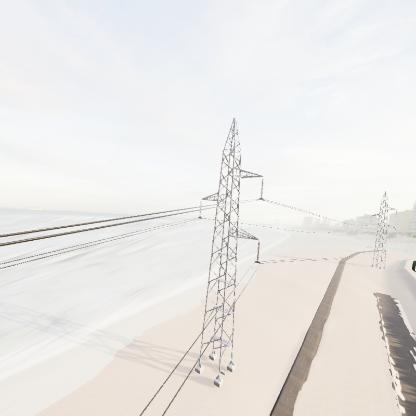tower: (188, 109, 271, 390)
